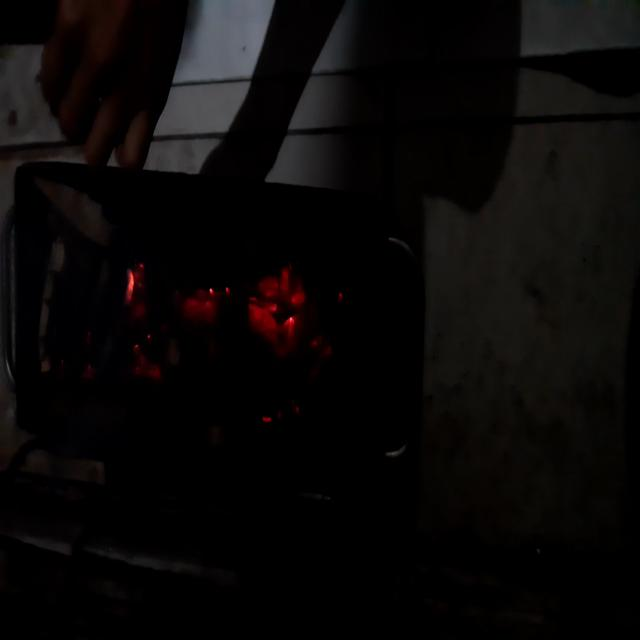Fire: (109, 246, 347, 424)
